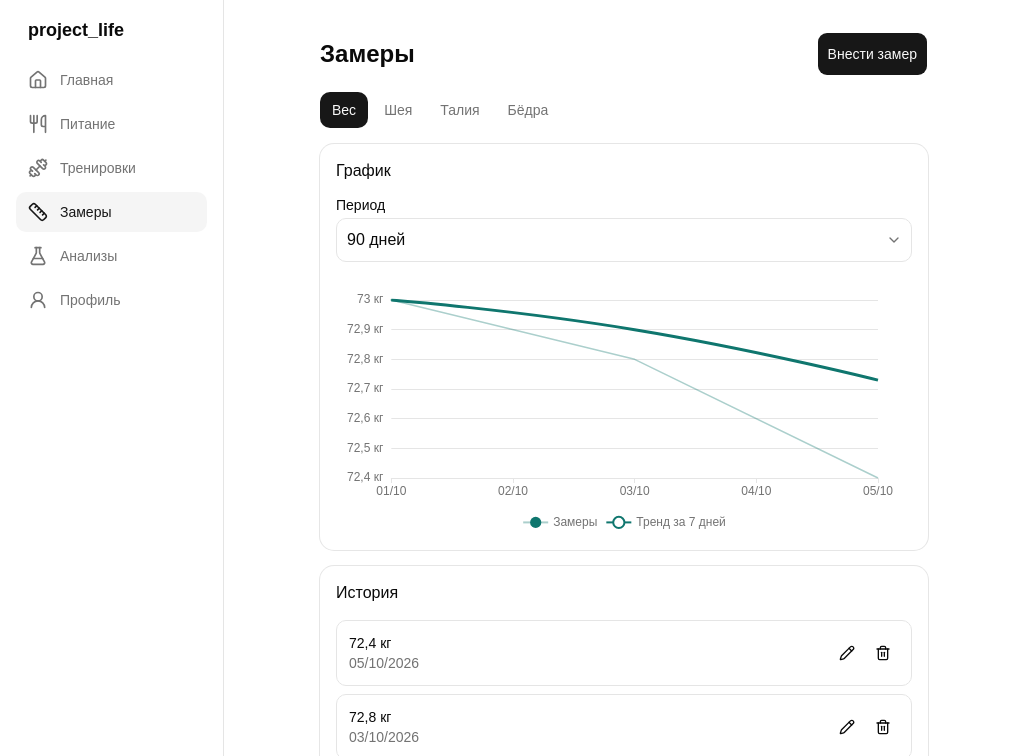
Test: история показателя › показывает отказ сервера при удалении
This screenshot has width=1024, height=756.
Click the button named "Удалить" in the row of "05/10/2026". click: (883,653)
box: [867,637,899,669]
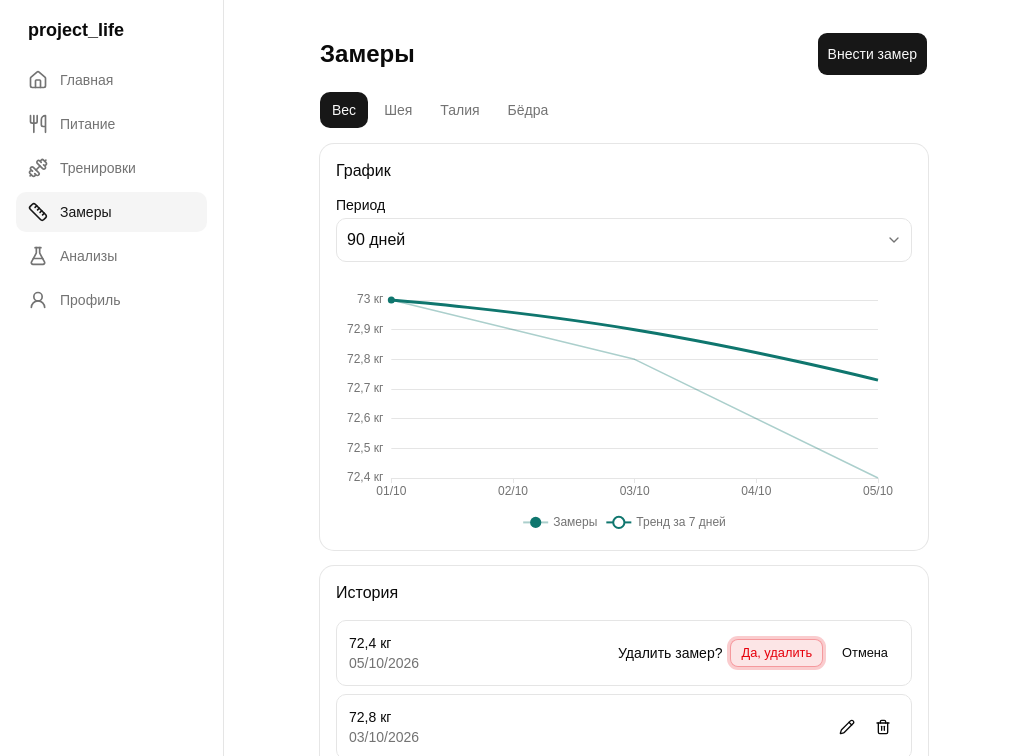
Click the button "Да, удалить". click: (777,653)
box: [730,639,823,667]
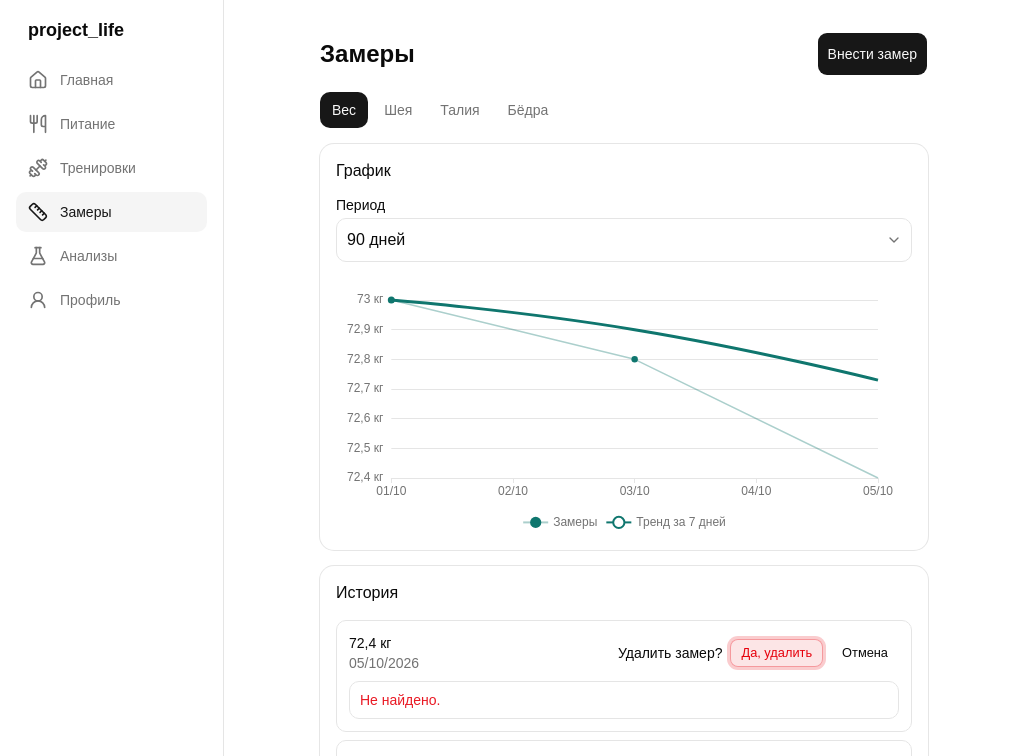
Now the message reads "Не найдено.", box [360,692,440,708]
